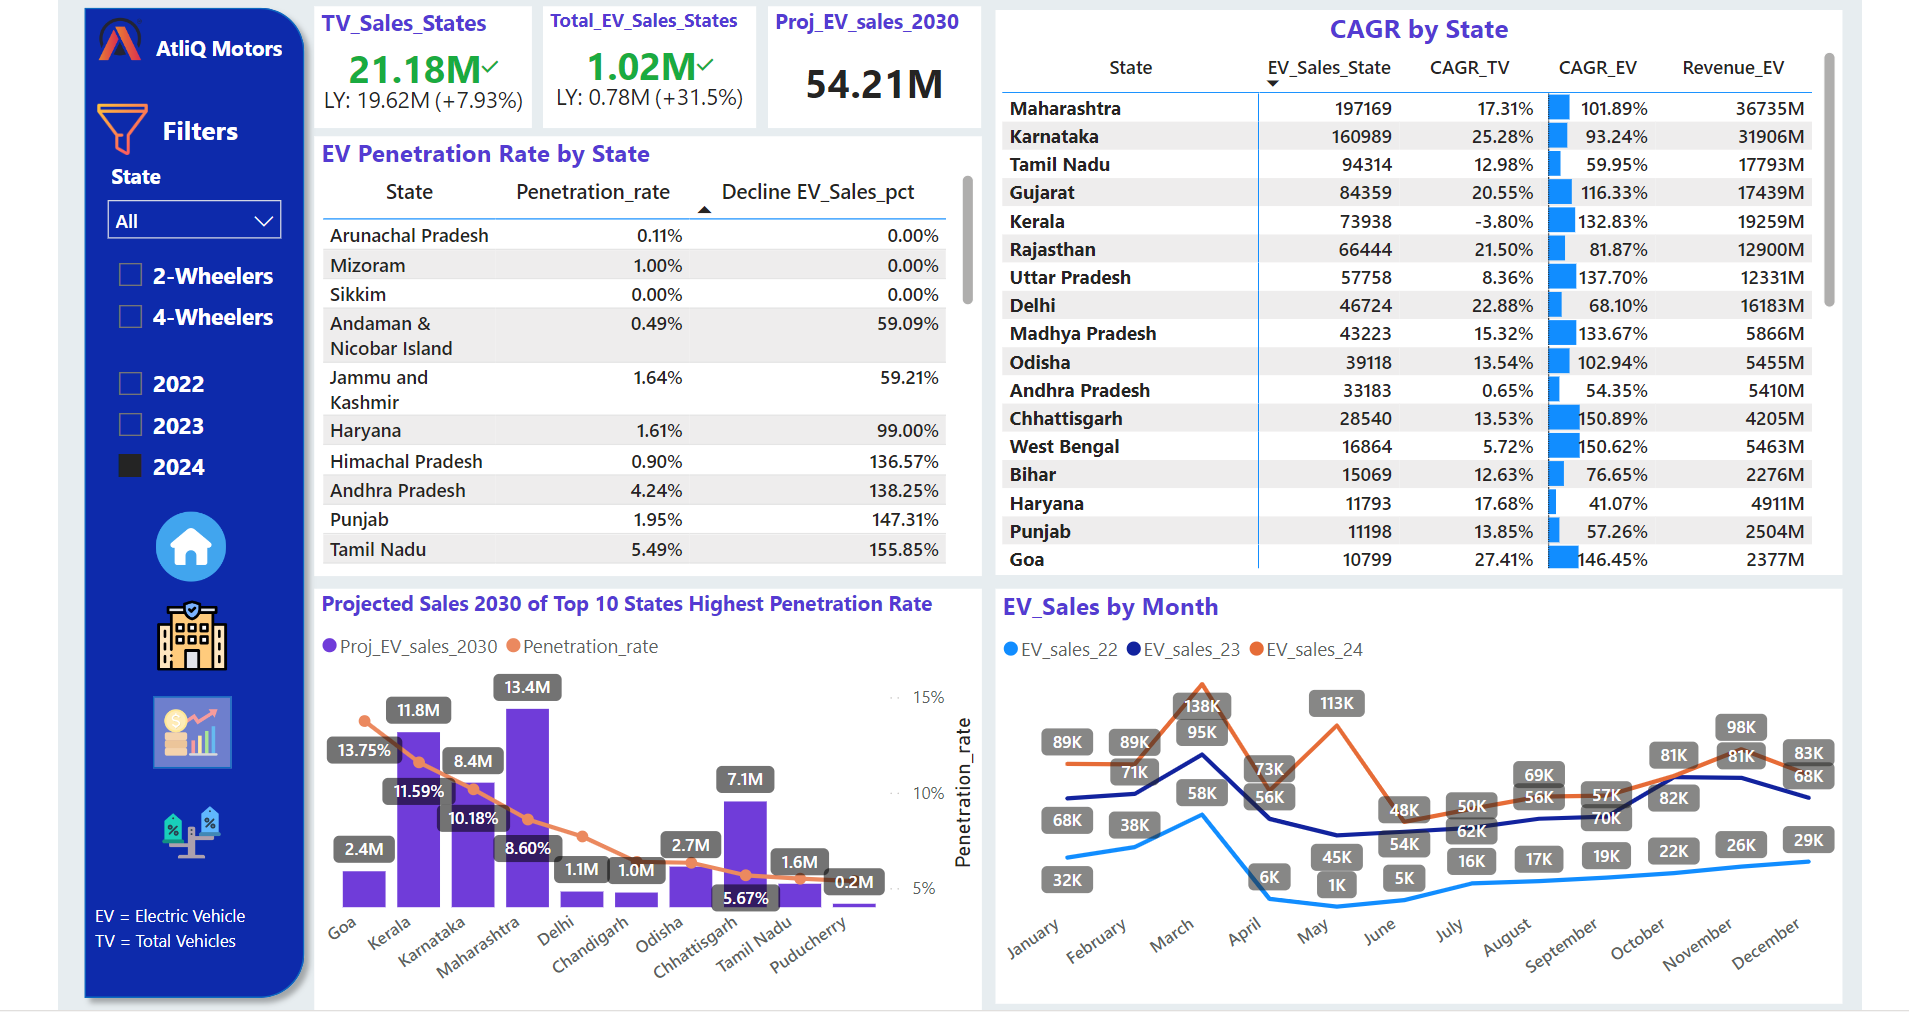

What the dashboard file says about the page in this screenshot:
{"tool":"powerbi","page":{"name":"Sales_States","canvas":[1280,720],"ordinal":3},"visuals":[{"type":"shape","box":[9.6,0,174,720.4],"z":0},{"type":"image","box":[20.6,11,48,41.2],"z":1000},{"type":"textbox","box":[49.4,22,124.9,41.2],"z":2000},{"type":"slicer","fields":{"Values":["dim_date.fiscal_year"]},"box":[29.1,241.9,144.2,100],"z":3000},{"type":"textbox","box":[68.6,100,104.7,53.5],"z":4000},{"type":"image","box":[65.1,360.5,59.3,60.5],"z":5000},{"type":"image","box":[60.5,493,68.6,60.5],"z":6000},{"type":"shape","box":[67.4,497.7,55.8,51.2],"z":7000},{"type":"image","box":[65.1,424.4,60.5,59.3],"z":8000},{"type":"tableEx","title":"Top 5 State Highest Penetration Rate","fields":{"Values":["electric_vehicle_sales_by_state.state","electric_vehicle_sales_by_state.vehicle_category","Key Measures.EV_sale_state","Key Measures.TV_sales_state","Key Measures.Penetration_rate"]},"box":[666.3,9.3,600,162.8],"z":9000},{"type":"tableEx","title":"States Negative Penetration (Decline)","fields":{"Values":["electric_vehicle_sales_by_state.state","Key Measures.PR_22","Key Measures.PR_24","Key Measures.PR_decline"]},"box":[219.8,209.3,410.5,232.6],"z":10000},{"type":"donutChart","title":"EV_Sales Delhi VS Karnataka 2024","fields":{"Y":["Key Measures.EV_sales_delhi_24","Key Measures.EV_sales_karnataka_24"]},"box":[665.1,189.5,293,222.1],"z":11000},{"type":"donutChart","title":"Penetration Delhi VS  Karnataka 2024","fields":{"Y":["Key Measures.peneration_delhi","Key Measures.peneration_karnataka"]},"box":[966.3,189.5,300,220.9],"z":12000},{"type":"barChart","title":"Top 10 States Highest CAGR 22-24 in T.V. Sales","fields":{"Category":["electric_vehicle_sales_by_state.state"],"Y":["Key Measures.cagr_22-24_TV"]},"box":[219.8,9.3,410.5,180.2],"z":13000},{"type":"lineChart","title":"EV_Sales - 2022, 2023 and 2024","fields":{"Category":["dim_date.date.Variation.Date Hierarchy.Month"],"Y":["Key Measures.EV_sales_22","Key Measures.EV_sales_23","Key Measures.EV_sales_24"]},"box":[665.1,420.9,601.2,294.2],"z":14000},{"type":"tableEx","title":"Projected Sales 2030 of  Top 10 States Highest Penetration Rate","fields":{"Values":["electric_vehicle_sales_by_state.state","Key Measures.Penetration_rate","Key Measures.Proj_EV_sales_2030"]},"box":[219.8,454.7,410.5,260.5],"z":15000},{"type":"image","box":[20.9,100,47.7,48.8],"z":16000},{"type":"textbox","box":[20.9,638.4,152.3,76.7],"z":17000},{"type":"image","box":[65.1,564,60.5,60.5],"z":18000},{"type":"slicer","fields":{"Values":["electric_vehicle_sales_by_state.vehicle_category"]},"box":[30.2,154.7,134.9,87.2],"z":19000}]}

Visuals, with their boxes on the page's 1280x720 design canvas (x1, y1, x2, y2). These are canvas units, not pixel positions in the 1909x1012 screenshot, which may show the page scaled, cropped or inside an application window:
shape: 10,0,184,720
image: 21,11,69,52
textbox: 49,22,174,63
slicer - dim_date.fiscal_year: 29,242,173,342
textbox: 69,100,173,154
image: 65,360,124,421
image: 60,493,129,554
shape: 67,498,123,549
image: 65,424,126,484
"Top 5 State Highest Penetration Rate" tableEx: 666,9,1266,172
"States Negative Penetration (Decline)" tableEx: 220,209,630,442
"EV_Sales Delhi VS Karnataka 2024" donutChart: 665,190,958,412
"Penetration Delhi VS  Karnataka 2024" donutChart: 966,190,1266,410
"Top 10 States Highest CAGR 22-24 in T.V. Sales" barChart: 220,9,630,190
"EV_Sales - 2022, 2023 and 2024" lineChart: 665,421,1266,715
"Projected Sales 2030 of  Top 10 States Highest Penetration Rate" tableEx: 220,455,630,715
image: 21,100,69,149
textbox: 21,638,173,715
image: 65,564,126,624
slicer - electric_vehicle_sales_by_state.vehicle_category: 30,155,165,242
